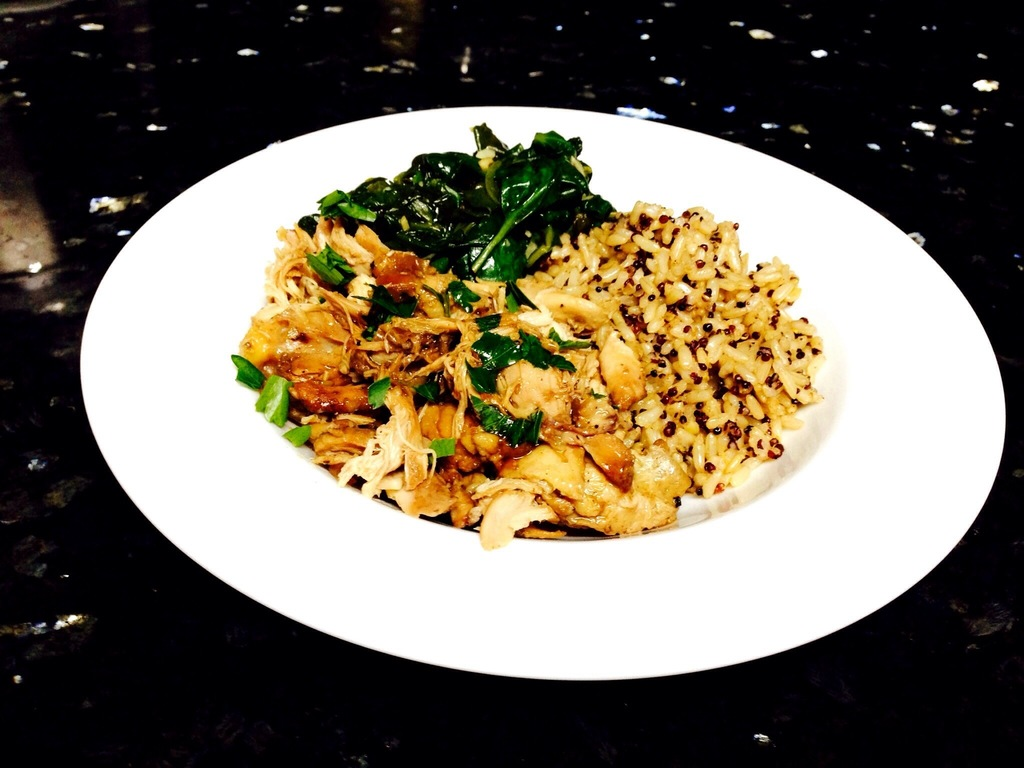pasta: (259, 153, 788, 541)
